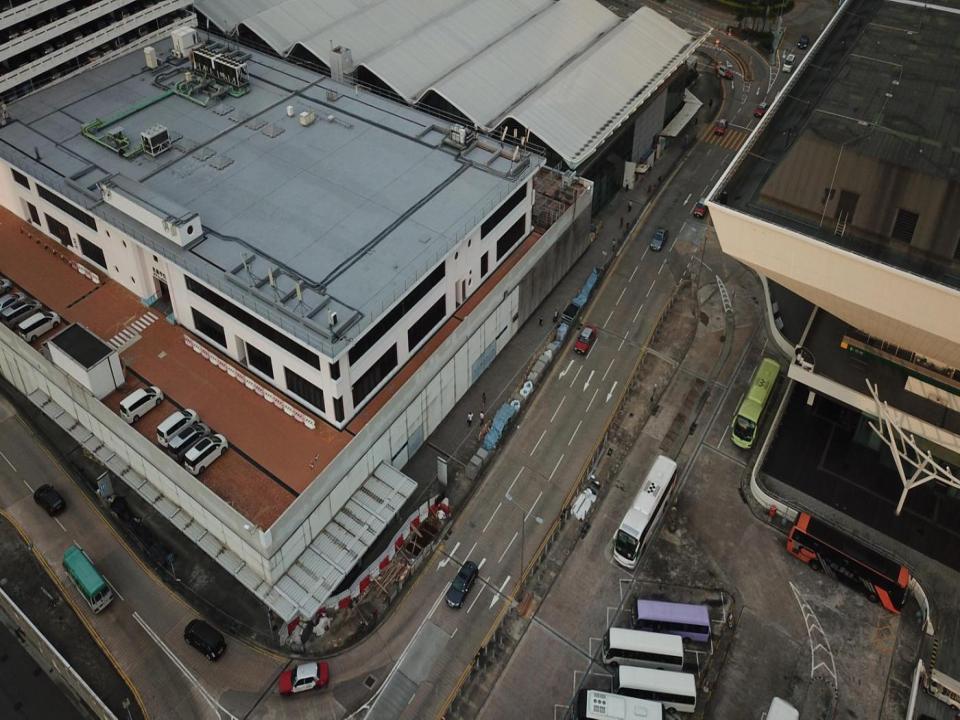bus: (786, 511, 912, 614), (612, 455, 676, 569), (730, 357, 780, 450), (610, 664, 697, 713), (602, 627, 683, 673), (629, 600, 710, 644), (571, 688, 665, 719)
car: (279, 662, 329, 696), (445, 561, 479, 609), (33, 484, 65, 516), (0, 292, 27, 318), (574, 324, 597, 354), (650, 228, 668, 252), (693, 196, 710, 218), (715, 64, 733, 80), (754, 101, 770, 117), (715, 118, 728, 134), (798, 35, 809, 48)
truck: (63, 545, 113, 613)
van: (184, 433, 228, 474), (184, 618, 226, 660), (168, 423, 210, 464), (156, 408, 200, 447), (120, 385, 163, 423), (18, 312, 60, 342), (1, 299, 42, 329), (782, 54, 795, 73)
